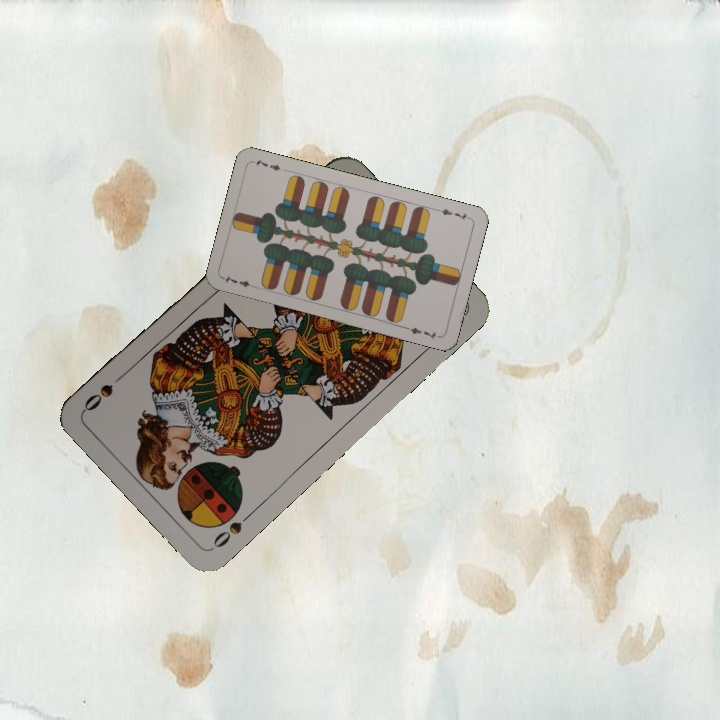E7: (220, 271, 260, 291), (433, 204, 473, 223)
SO: (208, 507, 256, 552)
